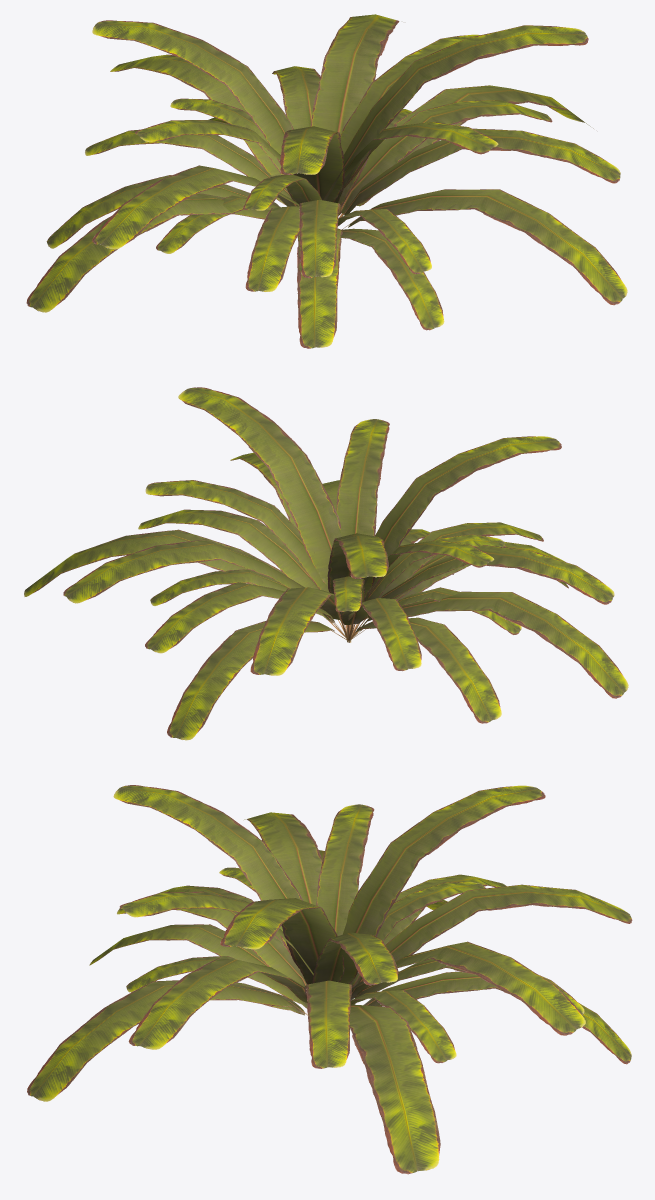
File: Amazonie_Fougere_4.fbx
3 views of the same model, one above another, from view 1: azimuth 30°, elevation 25°; view 2: azimuth 150°, elevation 25°; view 3: azimuth 270°, elevation 25° (orthographic). The views are drawn at different scales.
Visible parts, largest first — view 1: Plane.014, Plane.025, Plane.024, Plane.001, Plane.006, Plane.004, Plane.016, Plane, Plane.022, Plane.015, Plane.008, Plane.013 (+13 smaller); view 2: Plane.025, Plane.016, Plane.022, Plane.001, Plane.026, Plane.012, Plane.002, Plane.017, Plane.004, Plane.019, Plane, Plane.010 (+11 smaller); view 3: Plane.018, Plane.024, Plane.014, Plane.022, Plane.001, Plane.002, Plane.006, Plane.025, Plane.023, Plane, Plane.004, Plane.019 (+9 smaller).
Part boxes in pixels (left/top/right/bottom): Plane.014: left=342, top=189, right=627, bottom=305; Plane.025: left=334, top=25, right=588, bottom=202; Plane.024: left=92, top=20, right=293, bottom=163; Plane.001: left=310, top=14, right=399, bottom=135; Plane.006: left=342, top=128, right=620, bottom=216; Plane.004: left=92, top=165, right=299, bottom=249; Plane.016: left=26, top=193, right=270, bottom=312; Plane: left=341, top=100, right=552, bottom=213; Plane.022: left=280, top=126, right=344, bottom=202; Plane.015: left=297, top=228, right=342, bottom=348; Plane.008: left=245, top=206, right=299, bottom=292; Plane.013: left=341, top=228, right=444, bottom=330; Plane.025: left=178, top=387, right=347, bottom=627; Plane.016: left=350, top=591, right=628, bottom=698; Plane.022: left=349, top=436, right=561, bottom=642; Plane.001: left=63, top=539, right=345, bottom=636; Plane.026: left=336, top=419, right=389, bottom=641; Plane.012: left=167, top=621, right=347, bottom=740; Plane.002: left=250, top=587, right=355, bottom=675; Plane.017: left=347, top=617, right=501, bottom=723; Plane.004: left=351, top=545, right=614, bottom=637; Plane.019: left=145, top=480, right=346, bottom=632; Plane: left=138, top=509, right=343, bottom=631; Plane.010: left=145, top=582, right=346, bottom=653; Plane.018: left=349, top=1004, right=440, bottom=1174; Plane.024: left=342, top=785, right=545, bottom=936; Plane.014: left=27, top=980, right=307, bottom=1101; Plane.022: left=113, top=785, right=302, bottom=956; Plane.001: left=350, top=941, right=585, bottom=1035; Plane.002: left=353, top=884, right=632, bottom=998; Plane.006: left=128, top=958, right=307, bottom=1049; Plane.025: left=220, top=898, right=344, bottom=984; Plane.023: left=316, top=804, right=374, bottom=935; Plane: left=304, top=980, right=351, bottom=1068; Plane.004: left=244, top=812, right=322, bottom=905; Plane.019: left=312, top=932, right=398, bottom=985.
Size of the model in its own units: 2345 by 766 by 2017.
